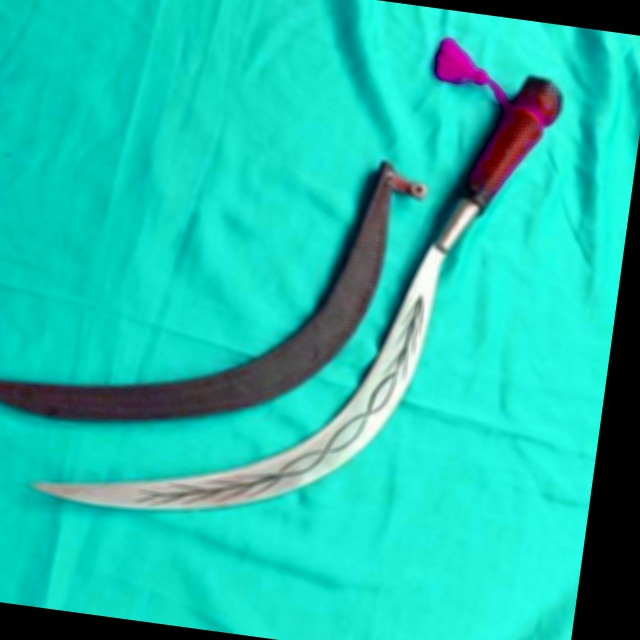Sharp-Object: (54, 15, 575, 571)
